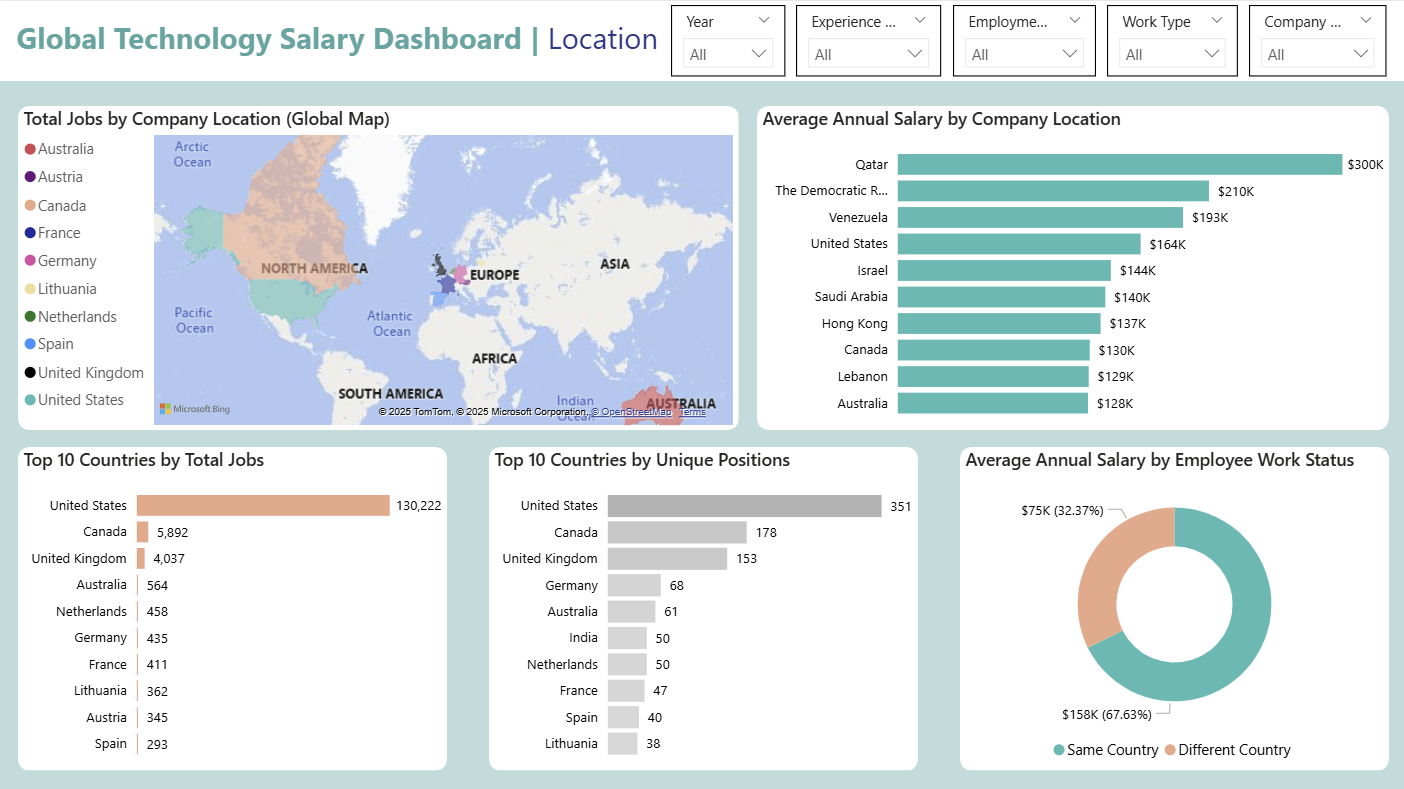

The page's visual inventory and layout, read from the dashboard file:
{"tool":"powerbi","page":{"name":"Location","canvas":[1280,720],"ordinal":3},"visuals":[{"type":"shape","box":[0,0,1279.5,72.7],"z":0},{"type":"shape","box":[17.3,95.5,655.5,294.5],"z":1000},{"type":"shape","box":[689.1,95.5,574.5,294.5],"z":2000},{"type":"shape","box":[17.1,405.2,390,294.3],"z":3000},{"type":"shape","box":[445.5,405.2,390,294.3],"z":4000},{"type":"shape","box":[873.8,405.2,390,294.3],"z":5000},{"type":"clusteredBarChart","title":"Top 10 Countries by Total Jobs","fields":{"Category":["global_tech_salary.Company_Location"],"Y":["global_tech_salary.Total Jobs"]},"box":[16.8,405.2,390.1,294.4],"z":6000},{"type":"filledMap","title":"Total Jobs by Company Location (Global Map)","fields":{"Category":["global_tech_salary.Company_Location"],"Series":["global_tech_salary.Company_Location"]},"box":[17.3,95.5,655.5,294.5],"z":7000},{"type":"clusteredBarChart","title":"Average Annual Salary by Company Location","fields":{"Y":["global_tech_salary.Average Annual Salary"],"Category":["global_tech_salary.Company_Location"]},"box":[689.1,95.5,574.5,294.5],"z":8000},{"type":"donutChart","title":"Average Annual Salary by Employee Work Status","fields":{"Category":["global_tech_salary.Employee_Work_Status"],"Y":["global_tech_salary.Average Annual Salary"]},"box":[873.6,405.5,390,294.5],"z":9000},{"type":"textbox","box":[10.9,10,608.2,52.7],"z":10000},{"type":"clusteredBarChart","title":"Top 10 Countries by Unique Positions","fields":{"Y":["global_tech_salary.Unique Positions"],"Category":["global_tech_salary.Company_Location"]},"box":[445.5,405.5,390,294.5],"z":11000},{"type":"slicer","fields":{"Values":["global_tech_salary.Work_Year"]},"box":[610.9,3.6,103.6,65.5],"z":12000},{"type":"slicer","fields":{"Values":["global_tech_salary.Experience_Level"]},"box":[724.8,3.6,131.8,65.5],"z":13000},{"type":"slicer","fields":{"Values":["global_tech_salary.Employment_Type"]},"box":[866.8,3.6,130,65.5],"z":14000},{"type":"slicer","fields":{"Values":["global_tech_salary.Work_Type"]},"box":[1007,3.6,119.1,65.5],"z":15000},{"type":"slicer","fields":{"Values":["global_tech_salary.Company_Size"]},"box":[1136.4,3.6,125.5,65.5],"z":16000}]}

Visuals, with their boxes in screenshot pixels (x1, y1, x2, y2), scaled from the page's 1280x720 canvas onto the 1404x789 screenshot:
shape: select_region(0, 0, 1403, 80)
shape: select_region(19, 105, 738, 427)
shape: select_region(756, 105, 1386, 427)
shape: select_region(19, 444, 447, 767)
shape: select_region(489, 444, 916, 767)
shape: select_region(958, 444, 1386, 767)
"Top 10 Countries by Total Jobs" clusteredBarChart: select_region(18, 444, 446, 767)
"Total Jobs by Company Location (Global Map)" filledMap: select_region(19, 105, 738, 427)
"Average Annual Salary by Company Location" clusteredBarChart: select_region(756, 105, 1386, 427)
"Average Annual Salary by Employee Work Status" donutChart: select_region(958, 444, 1386, 767)
textbox: select_region(12, 11, 679, 69)
"Top 10 Countries by Unique Positions" clusteredBarChart: select_region(489, 444, 916, 767)
slicer - global_tech_salary.Work_Year: select_region(670, 4, 784, 76)
slicer - global_tech_salary.Experience_Level: select_region(795, 4, 940, 76)
slicer - global_tech_salary.Employment_Type: select_region(951, 4, 1093, 76)
slicer - global_tech_salary.Work_Type: select_region(1105, 4, 1235, 76)
slicer - global_tech_salary.Company_Size: select_region(1246, 4, 1384, 76)
